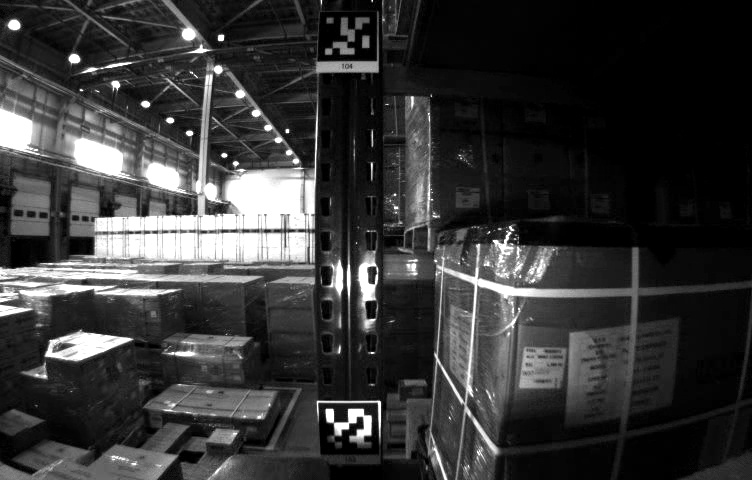True Barcode: (524, 344, 561, 388)
